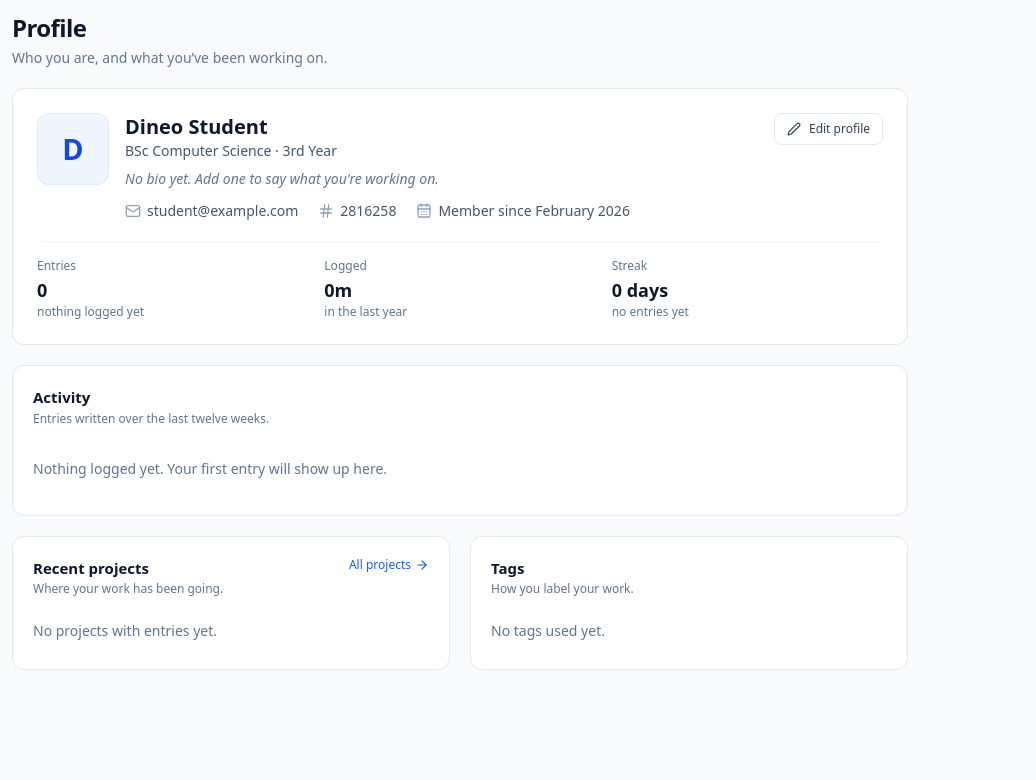
Test case: ProfilePage › edits and saves the profile the same way as before
The image size is (1036, 780).
Step 1. Click the button "Edit profile" → (828, 129), box [774,113,883,145]
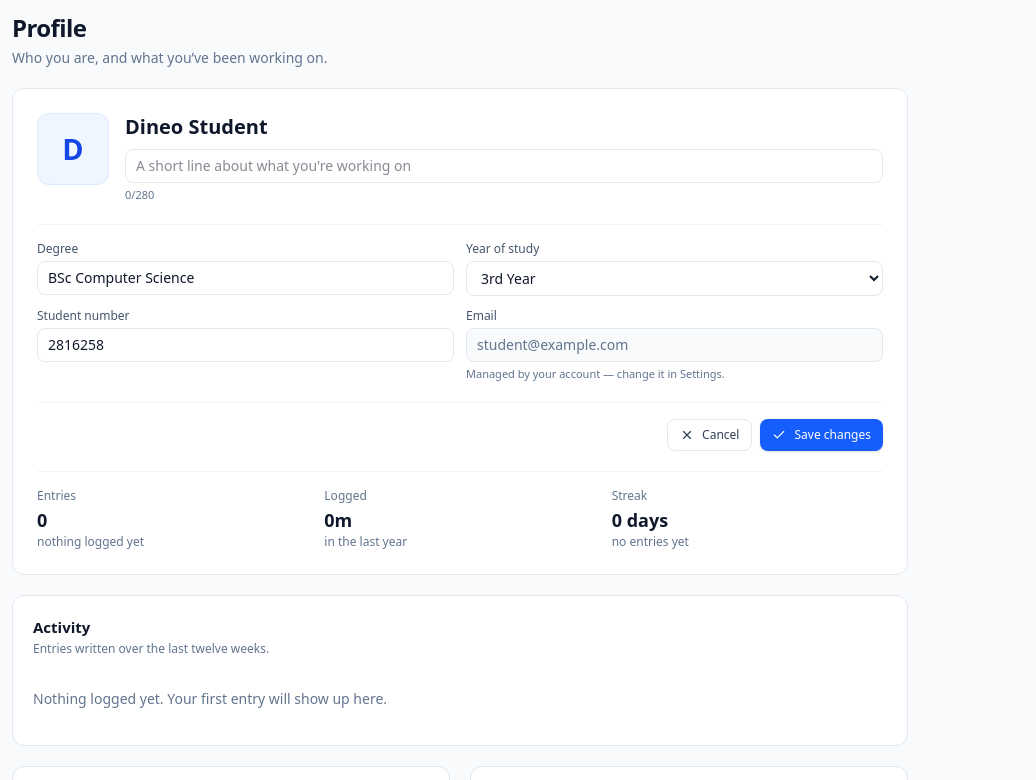
Step 2. Type "Building a logbook" into the field named "Bio" → (504, 166), box [125,149,883,183]
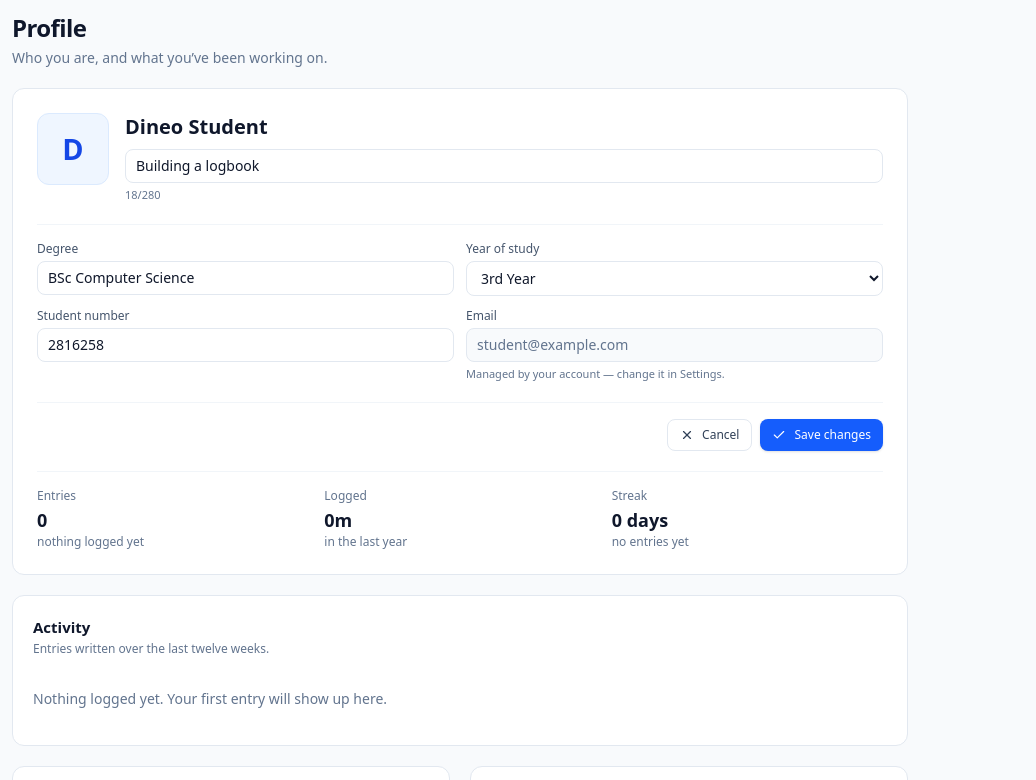
Step 3. Click the button "Save changes" → (822, 435), box [760,419,883,451]
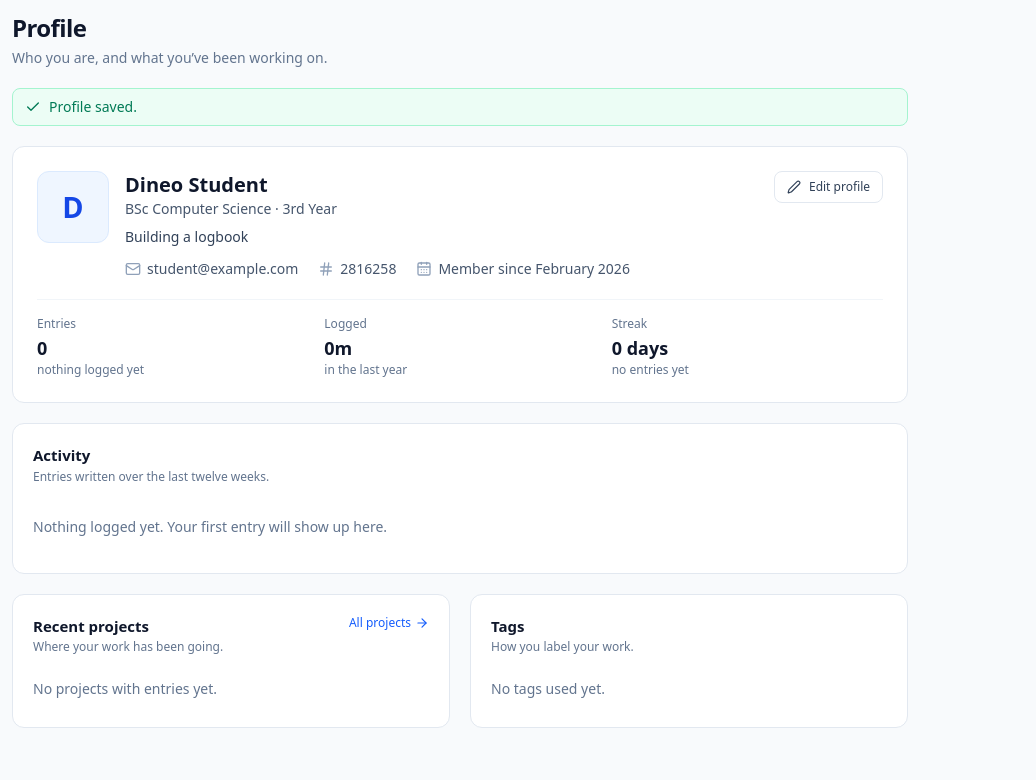
Now the text "Building a logbook" is shown, box [125,227,248,246]
Now the message reads "Profile saved.", box [49,97,137,116]
